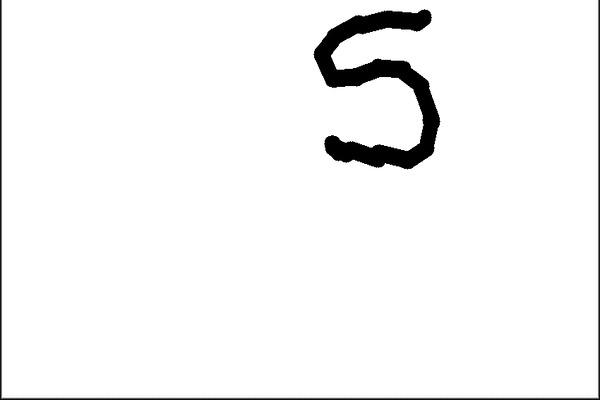S: (304, 0, 447, 182)
